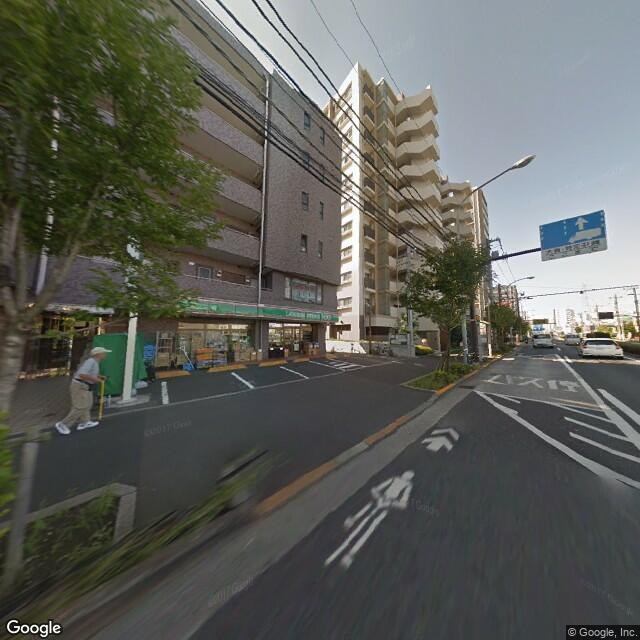lawson: (172, 291, 342, 330)
